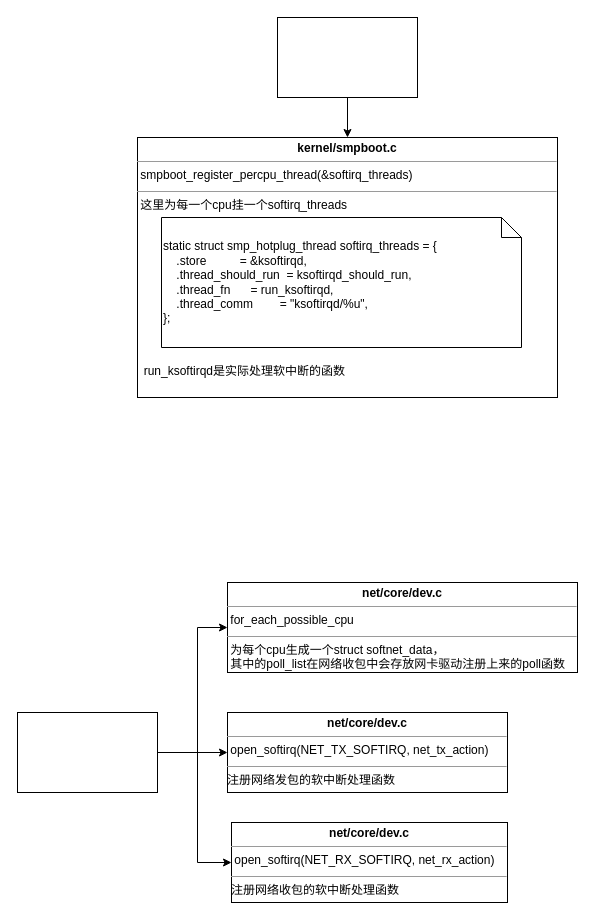
This 595x920 diagram has some shape labels left out. The shapes that lost their labels are listed below. From the top down, each one's centre as x and y in pixels, then its label:
point (347, 57): kernel/softirq.c spawn_ksoftirqd
point (87, 752): net/core/dev.c net_dev_init
